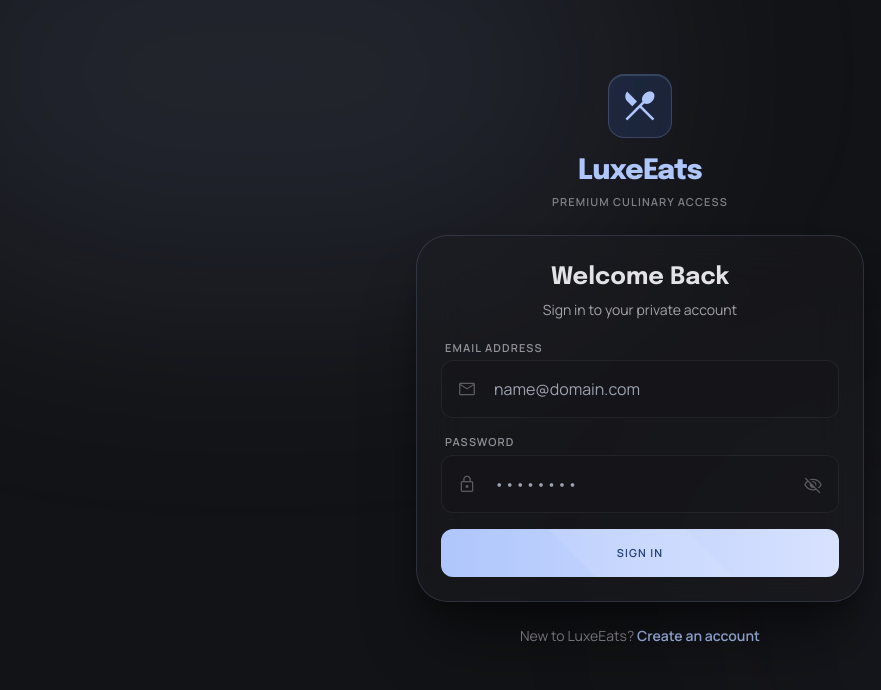
LoginPage — Error States › clears previous error when user starts typing again
Step 1. Type "bad@example.com" into the field labelled "EMAIL ADDRESS" → x=640, y=389, box 441,360 -> 839,418
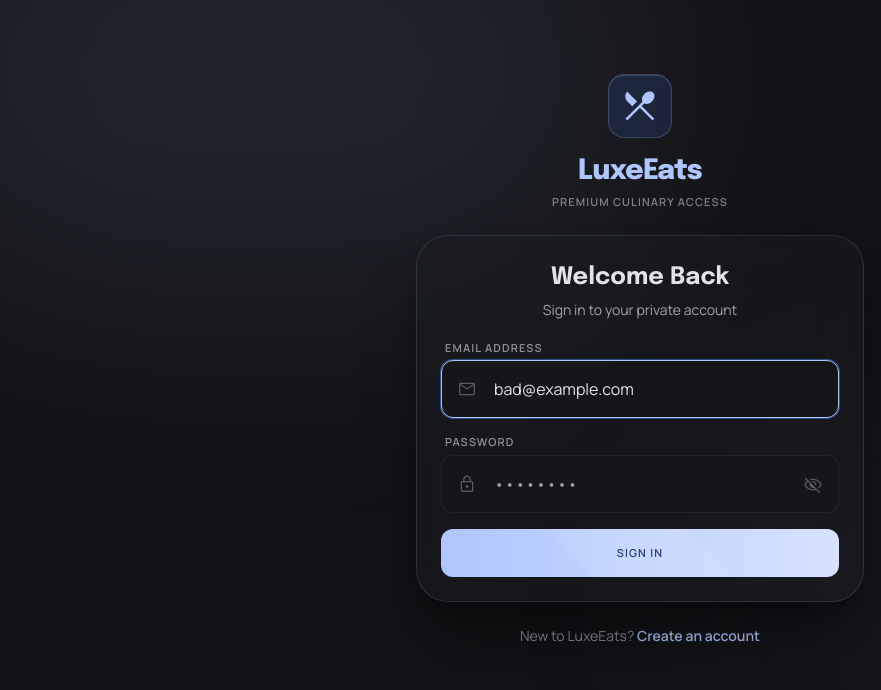
Step 2. Type "wrong" into the password field labelled "PASSWORD" → x=640, y=484, box 441,454 -> 839,512
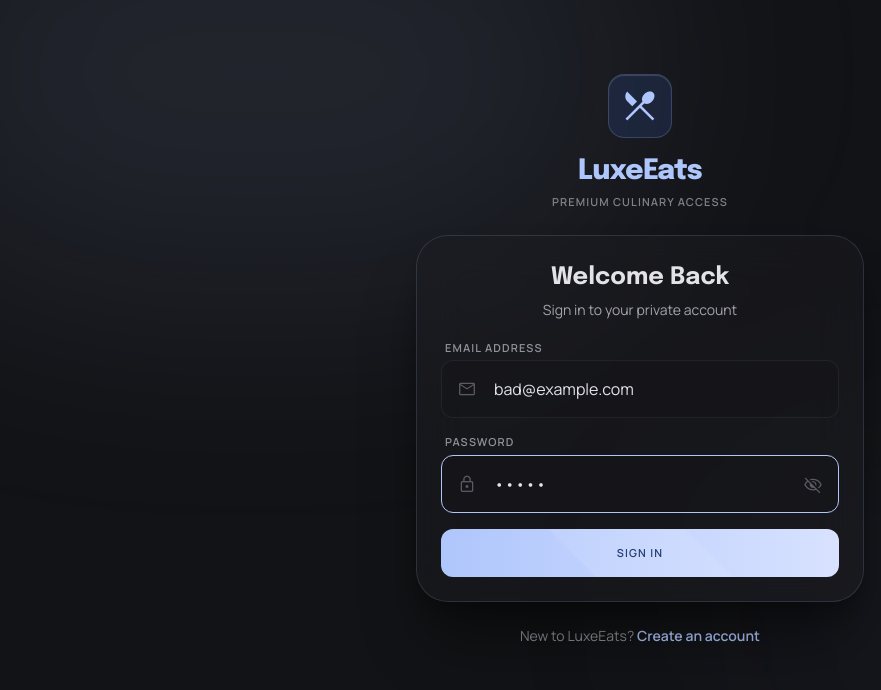
Step 3. Click the button "SIGN IN" → x=640, y=553, box 441,528 -> 839,577
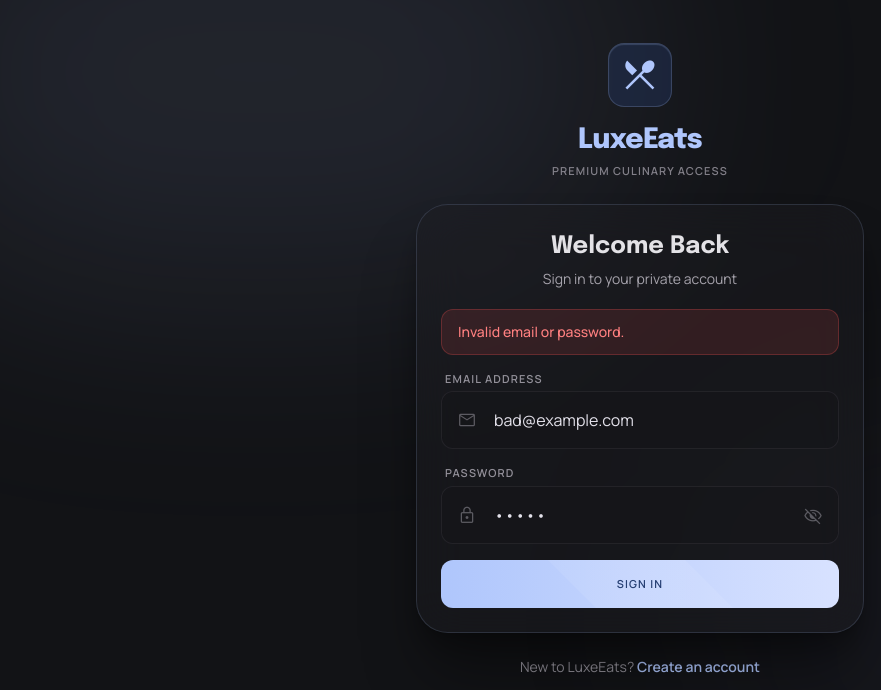
Now the message "Invalid email or password." is shown, box 441,308 -> 839,354
